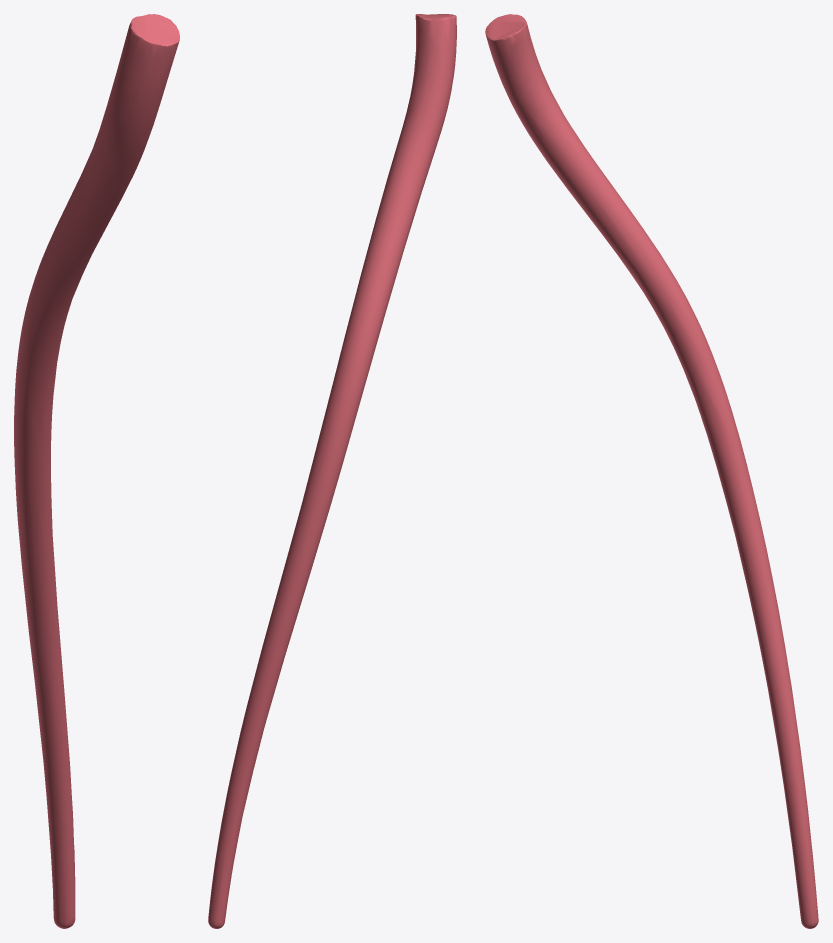
File: fma66322_fj2253.glb
3 views of the same model, side by side, from view 1: azimuth 30°, elevation 25°; view 2: azimuth 150°, elevation 25°; view 3: azimuth 270°, elevation 25° (orthographic). The views are drawn at different scales.
Visible parts, largest first — view 1: FMA66322_FJ2253; view 2: FMA66322_FJ2253; view 3: FMA66322_FJ2253.
Boxes of the visible parts, x1,y1,x2,y2 form: FMA66322_FJ2253: [14, 14, 179, 928]; FMA66322_FJ2253: [208, 14, 456, 928]; FMA66322_FJ2253: [485, 14, 818, 928].
Bounding box in the file's own units: 0.0106 × 0.0799 × 0.0278.
